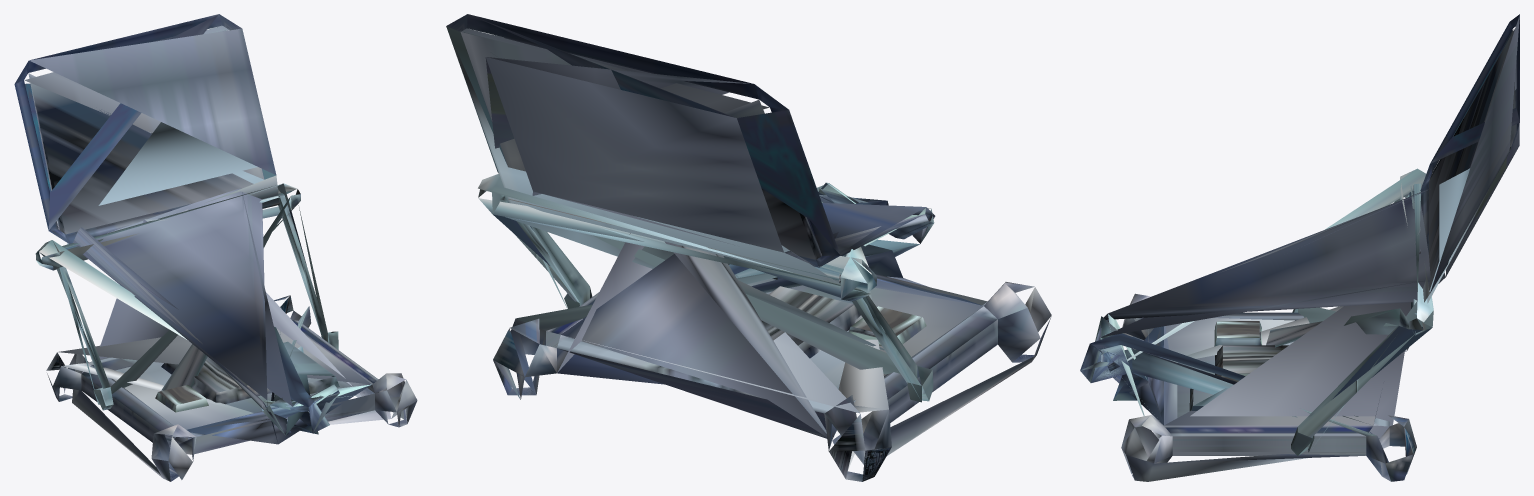
The model's file is eqp_tool_viewscreen_s01_l0.fbx.
3 views of the same model, side by side, from view 1: azimuth 30°, elevation 25°; view 2: azimuth 150°, elevation 25°; view 3: azimuth 270°, elevation 25° (orthographic). The views are drawn at different scales.
Parts seen in each view (by area): view 1: mesh_node; view 2: mesh_node; view 3: mesh_node.
Part boxes in pixels (x1,y1,x2,y2): mesh_node: [14, 14, 417, 481]; mesh_node: [446, 14, 1051, 481]; mesh_node: [1080, 14, 1519, 481].
Bounding box in the file's own units: 0.4484 × 0.4887 × 0.565.
